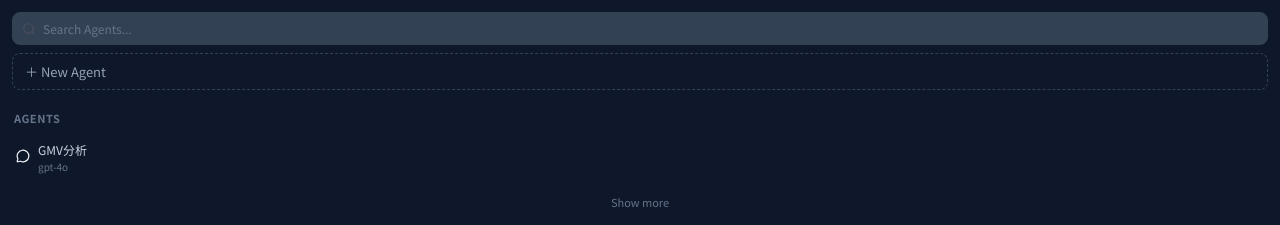
Test: Phase 2 - 双击重命名 › 双击会话名称进入编辑态
The image size is (1280, 225).
Double-click the text "GMV分析": (62, 150) [38,141,87,158]
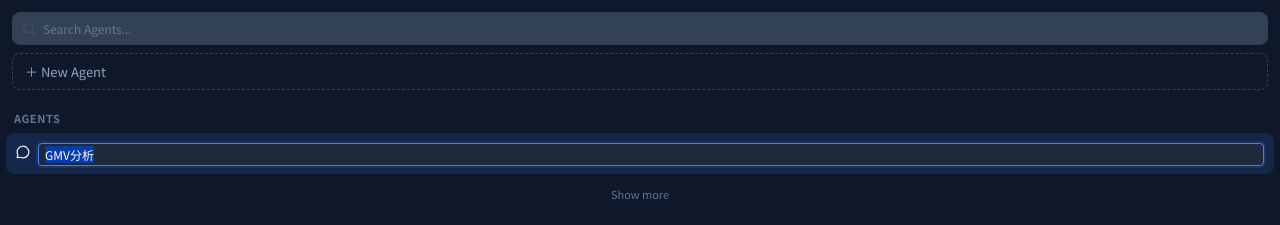
Now the 2nd field holds "GMV分析", box [38,143,1264,166]
